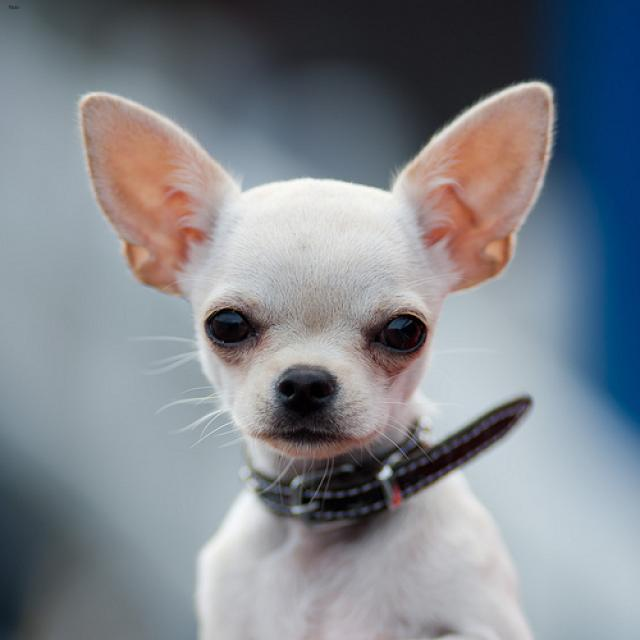dog-chihuahua: (70, 77, 564, 637)
